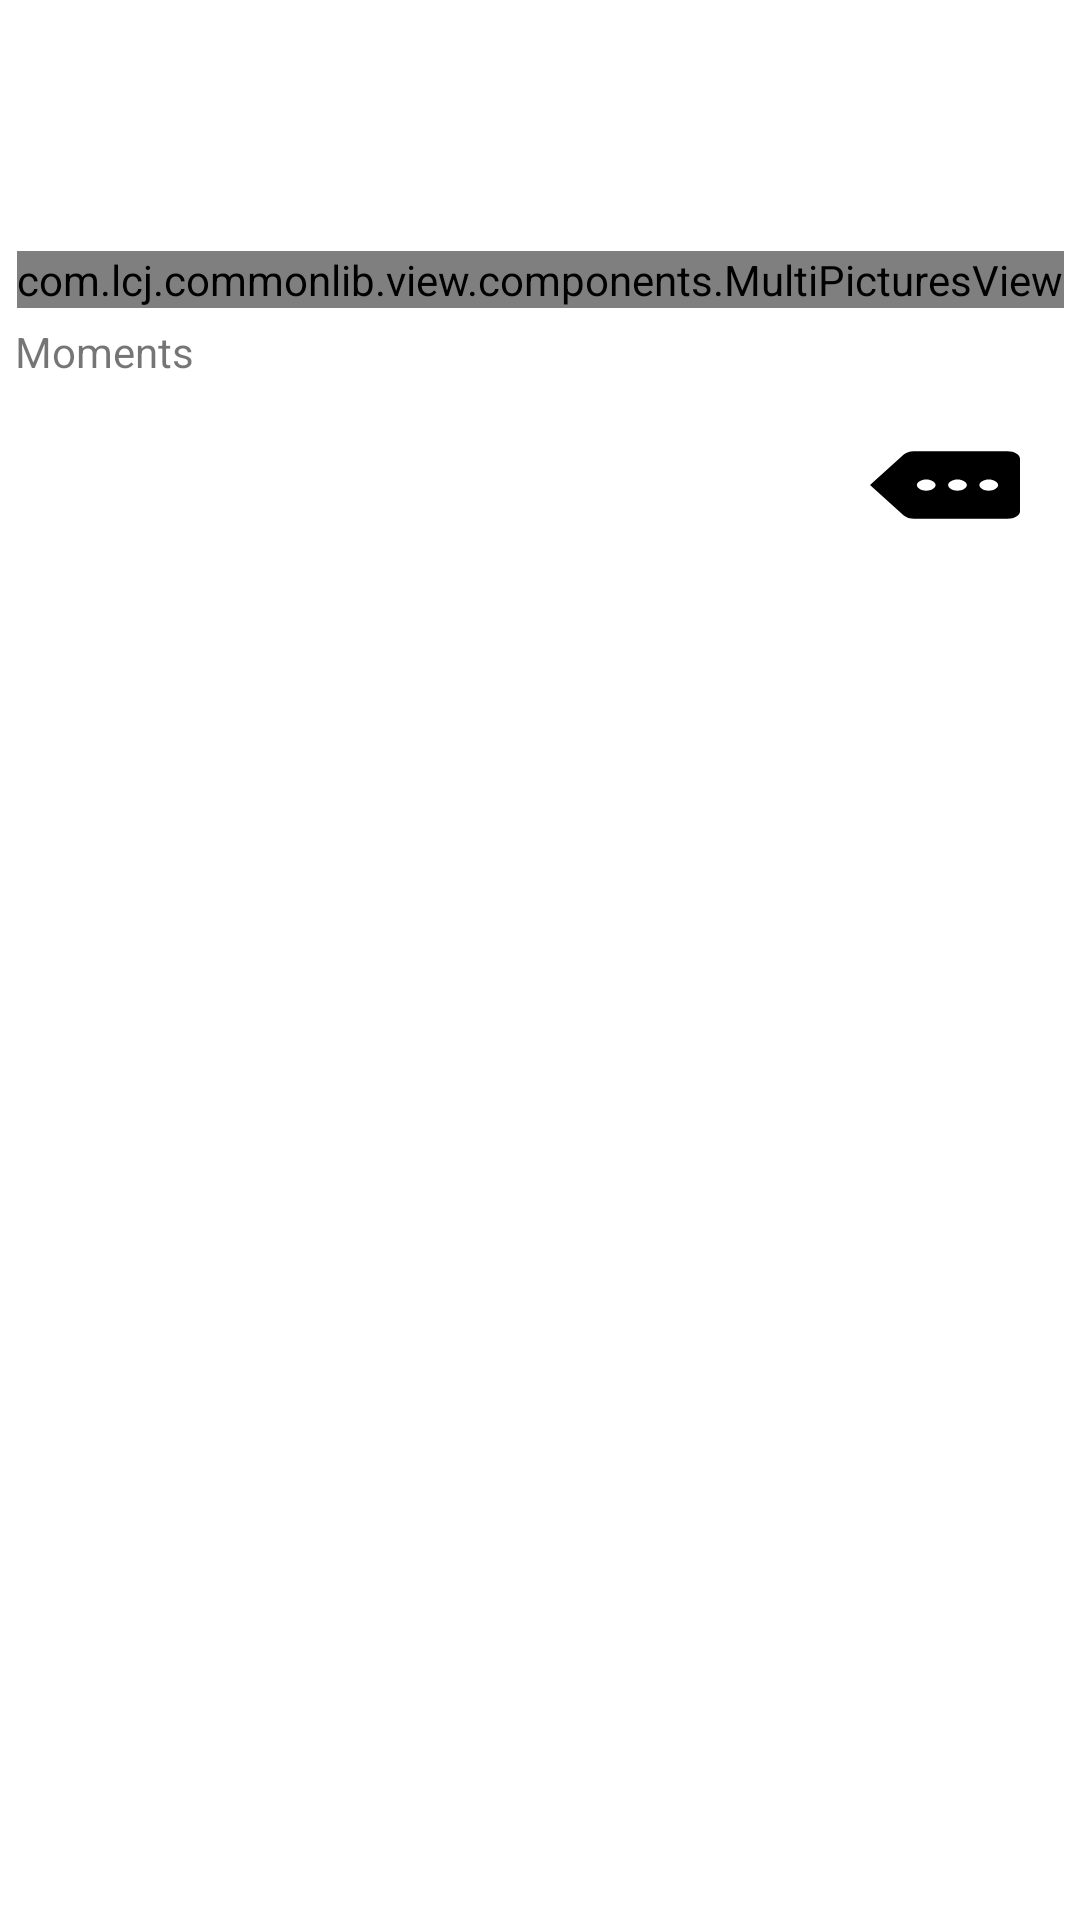

Point at icon controls on the screen. Image size 1080 x 1920, points as point (x, y).
more: point (945, 485)
